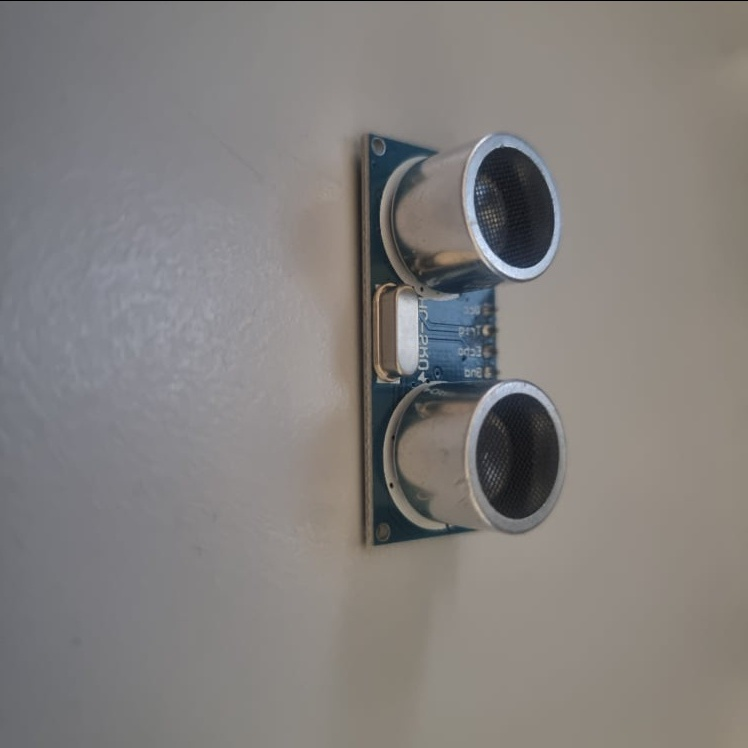SENSOR: (361, 127, 569, 548)
